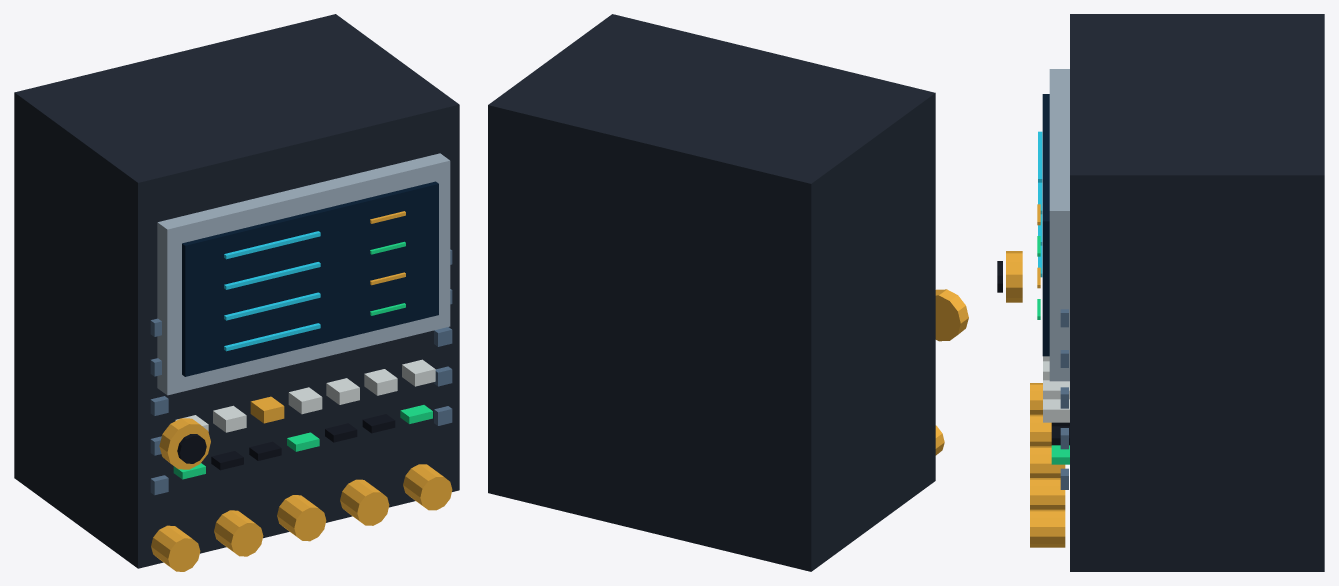
The model's file is 54_L86_CoolantFlowMeter.fbx.
The picture shows the model from 3 angles, left to right: view 1: azimuth 30°, elevation 25°; view 2: azimuth 150°, elevation 25°; view 3: azimuth 270°, elevation 25°; orthographic projection. The views are drawn at different scales.
Visible parts, largest first — view 1: L86_CoolantFlowMeter, L86_CoolantFlowMeter_Part_0010, L86_CoolantFlowMeter_Part_0011; view 2: L86_CoolantFlowMeter, L86_CoolantFlowMeter_Part_0010; view 3: L86_CoolantFlowMeter, L86_CoolantFlowMeter_Part_0010.
Part boxes in pixels (x1,y1,x2,y2): L86_CoolantFlowMeter: (14, 14, 459, 571); L86_CoolantFlowMeter_Part_0010: (159, 418, 210, 469); L86_CoolantFlowMeter_Part_0011: (177, 434, 206, 463); L86_CoolantFlowMeter: (488, 14, 944, 571); L86_CoolantFlowMeter_Part_0010: (935, 289, 968, 341); L86_CoolantFlowMeter: (1030, 14, 1324, 571); L86_CoolantFlowMeter_Part_0010: (1006, 251, 1022, 302).
Bounding box in the file's own units: 96.44 × 110 × 82.16.
